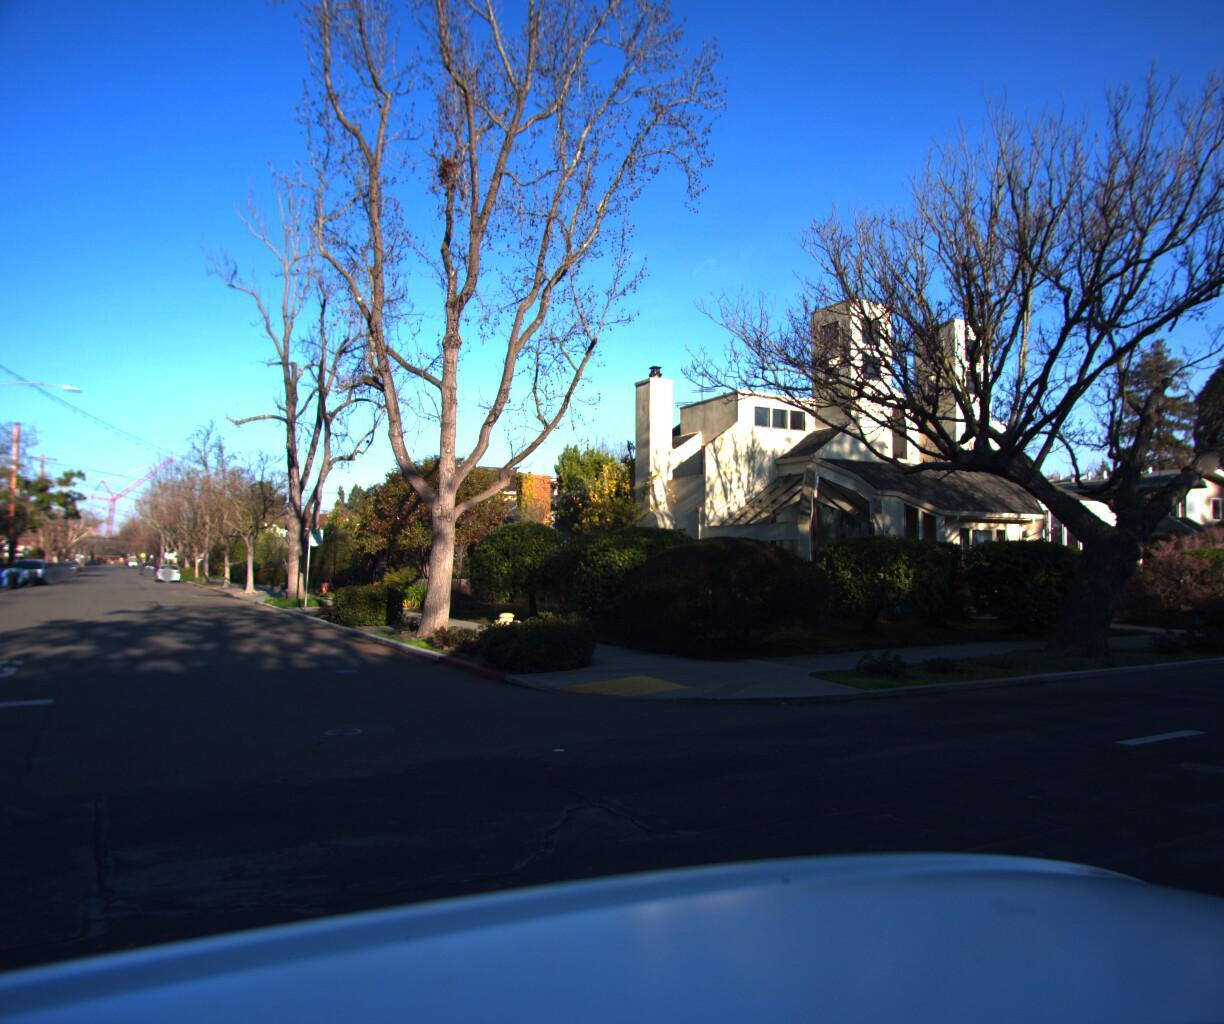car: (11, 553, 56, 582), (0, 554, 42, 585), (156, 557, 181, 580)
